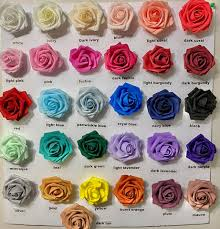lale: (147, 172, 184, 219), (108, 81, 149, 123), (137, 0, 177, 43), (178, 0, 218, 41), (179, 43, 219, 84), (26, 37, 63, 81), (108, 126, 145, 170), (138, 40, 177, 80), (144, 87, 184, 126), (145, 129, 183, 170), (39, 129, 76, 169), (183, 129, 220, 169), (71, 83, 107, 124), (185, 177, 220, 219), (33, 0, 70, 39), (34, 89, 73, 126), (0, 172, 37, 211), (100, 43, 137, 81), (36, 173, 74, 210), (181, 88, 220, 124), (112, 173, 150, 209), (73, 0, 107, 40), (0, 87, 35, 125), (2, 131, 37, 169), (64, 45, 104, 78), (75, 129, 110, 165), (77, 175, 113, 210), (0, 2, 33, 38), (107, 1, 140, 37), (55, 202, 96, 229), (1, 43, 30, 79)
